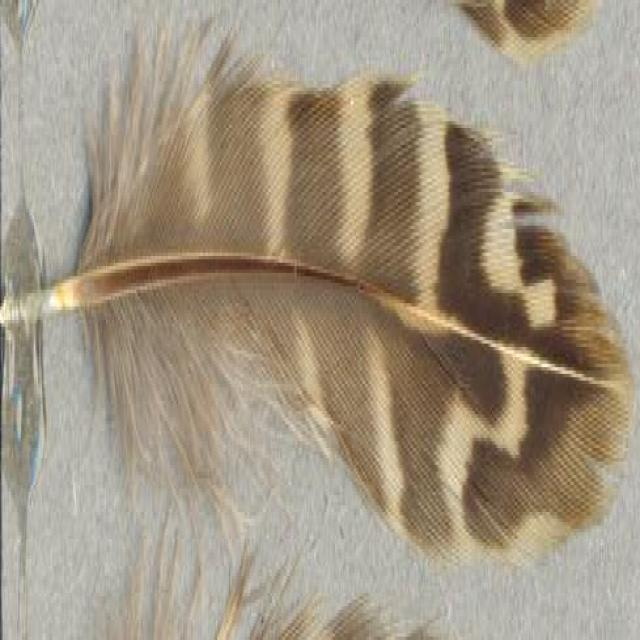feather: (0, 2, 640, 580)
